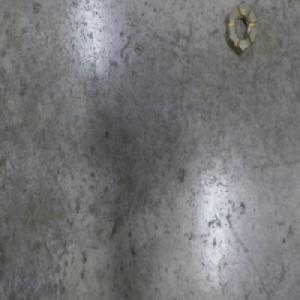Nut: (224, 3, 257, 60)
